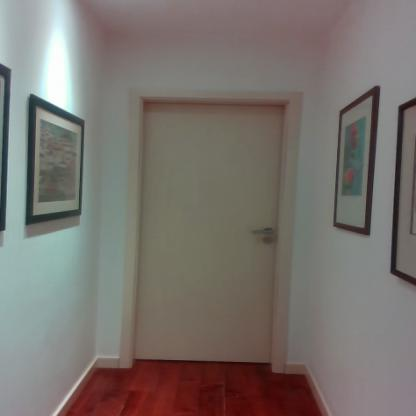door: (143, 104, 275, 362)
lever: (250, 228, 274, 236)
